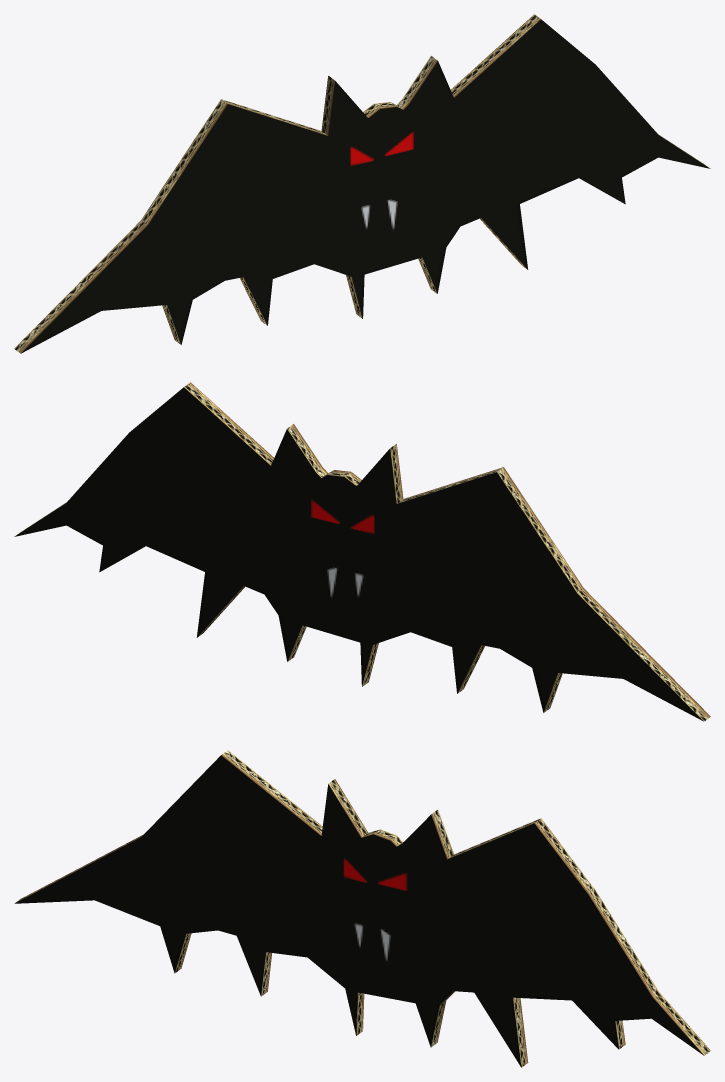
The model's file is cardboard_bat_1.fbx.
The picture shows the model from 3 angles, top to bottom: view 1: azimuth 30°, elevation 25°; view 2: azimuth 150°, elevation 25°; view 3: azimuth 330°, elevation 25°; orthographic projection.
Parts seen in each view (by area): view 1: cardboard_bat_1; view 2: cardboard_bat_1; view 3: cardboard_bat_1.
Boxes of the visible parts, x1,y1,x2,y2 form: cardboard_bat_1: (14, 14, 710, 353); cardboard_bat_1: (14, 382, 710, 721); cardboard_bat_1: (14, 750, 710, 1067).
Size of the model in its own units: 2.29 by 0.8137 by 0.0394.
